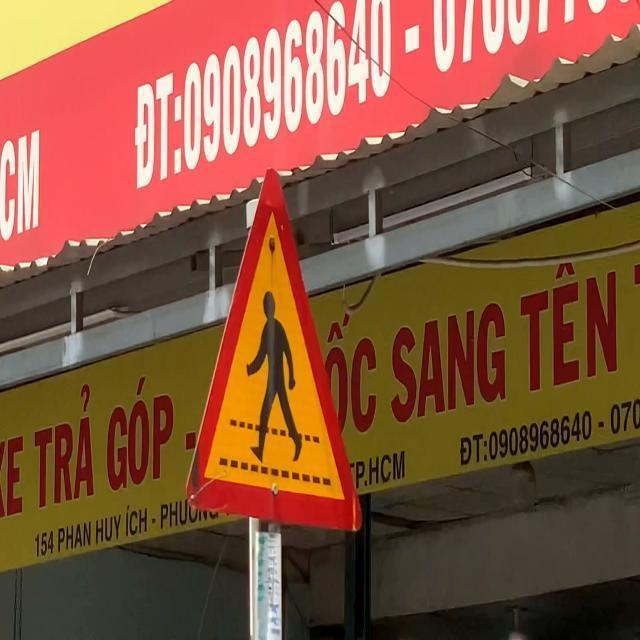224-duong-nguoi-di-bo-cat-ngang: (180, 166, 366, 534)
